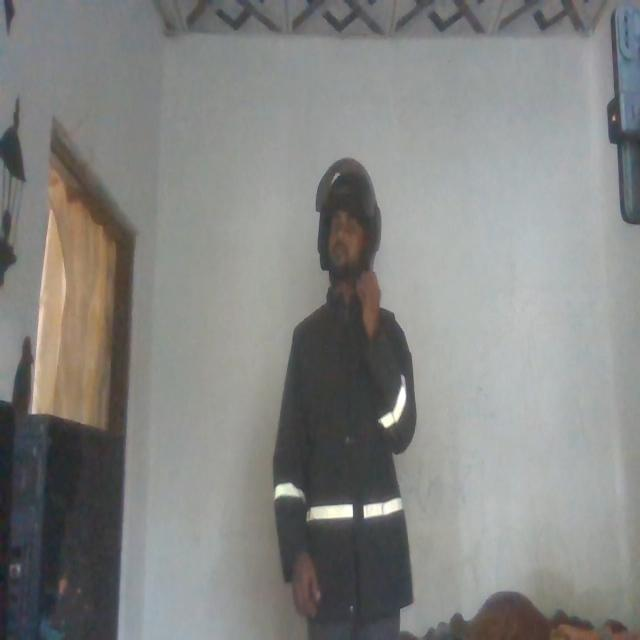Helmet_Wearer: (311, 153, 393, 299)
Jacket_Wearer: (270, 284, 416, 615)
Person: (269, 151, 421, 640)
